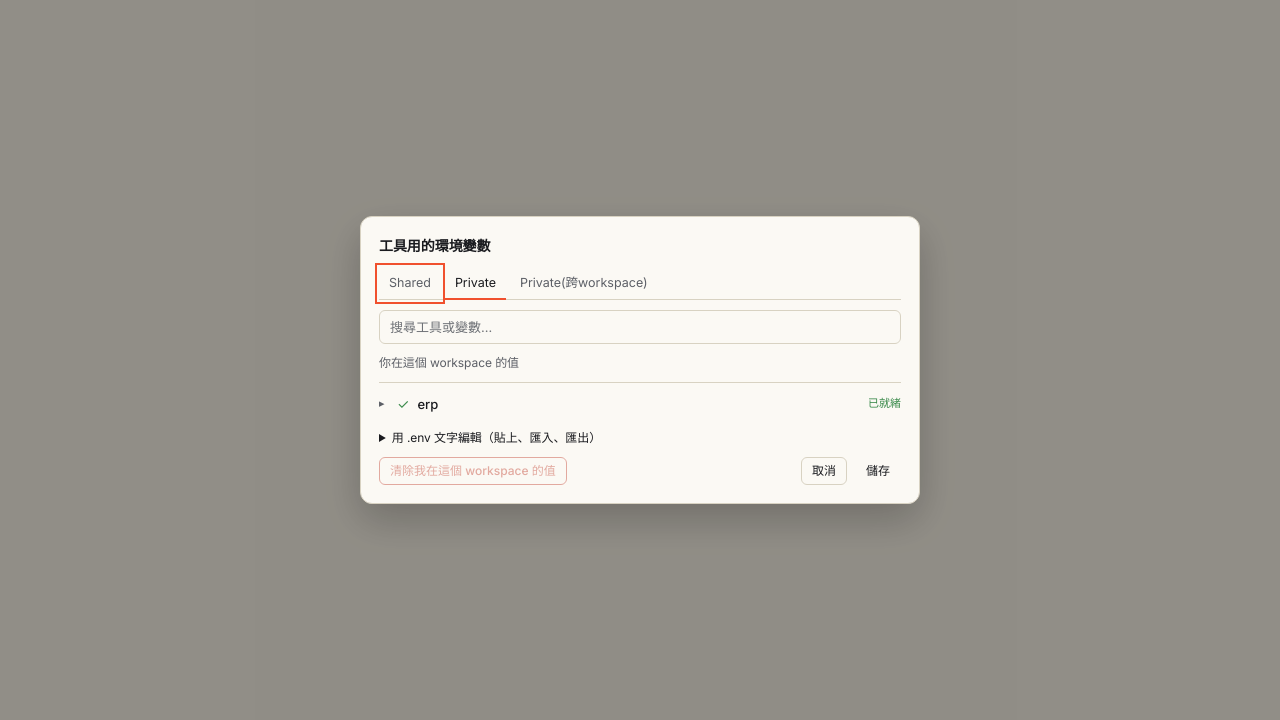
Test case: the copy › says what typing here would override, and nothing once this tab holds the value
Click the button with test id "env-section-head-erp": click(884, 403) [379, 389, 901, 419]
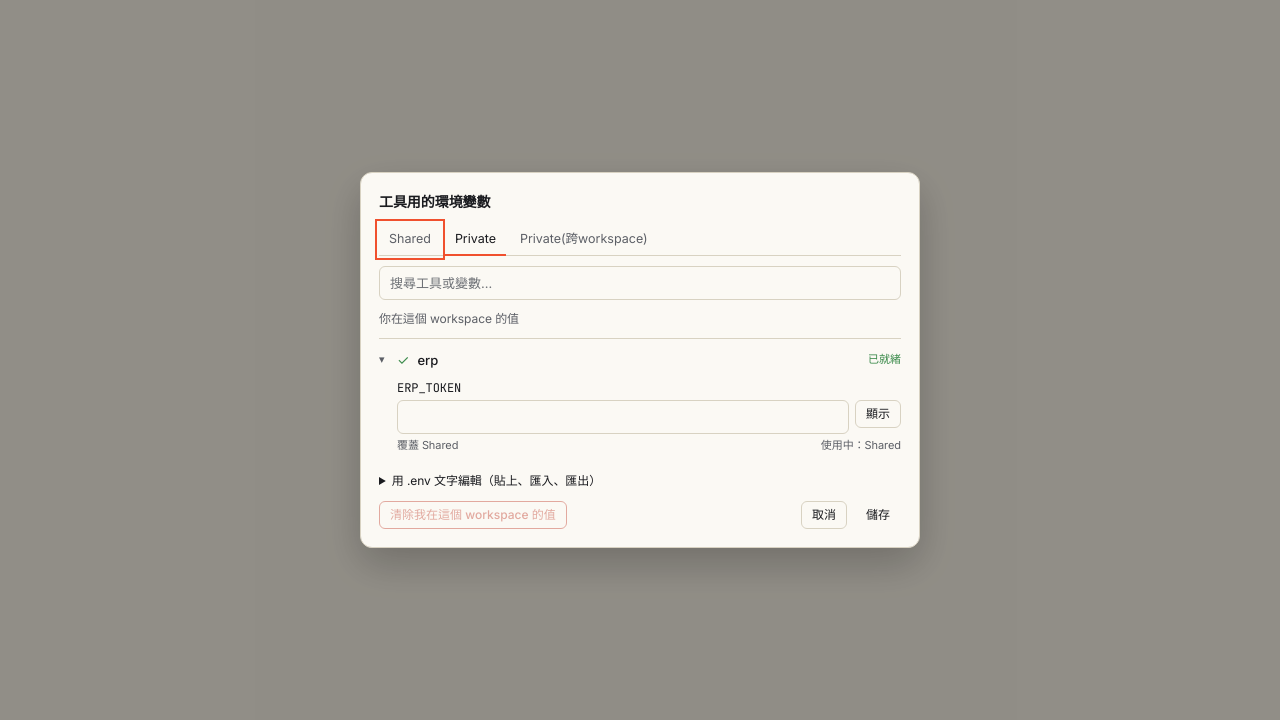
Expected: the element with test id "env-mine-row-ERP_TOKEN" shows "覆蓋 Shared", [397, 438, 458, 452]
In the field with test id "env-mine-ERP_TOKEN": (623, 417) [397, 400, 849, 434], type "mine"
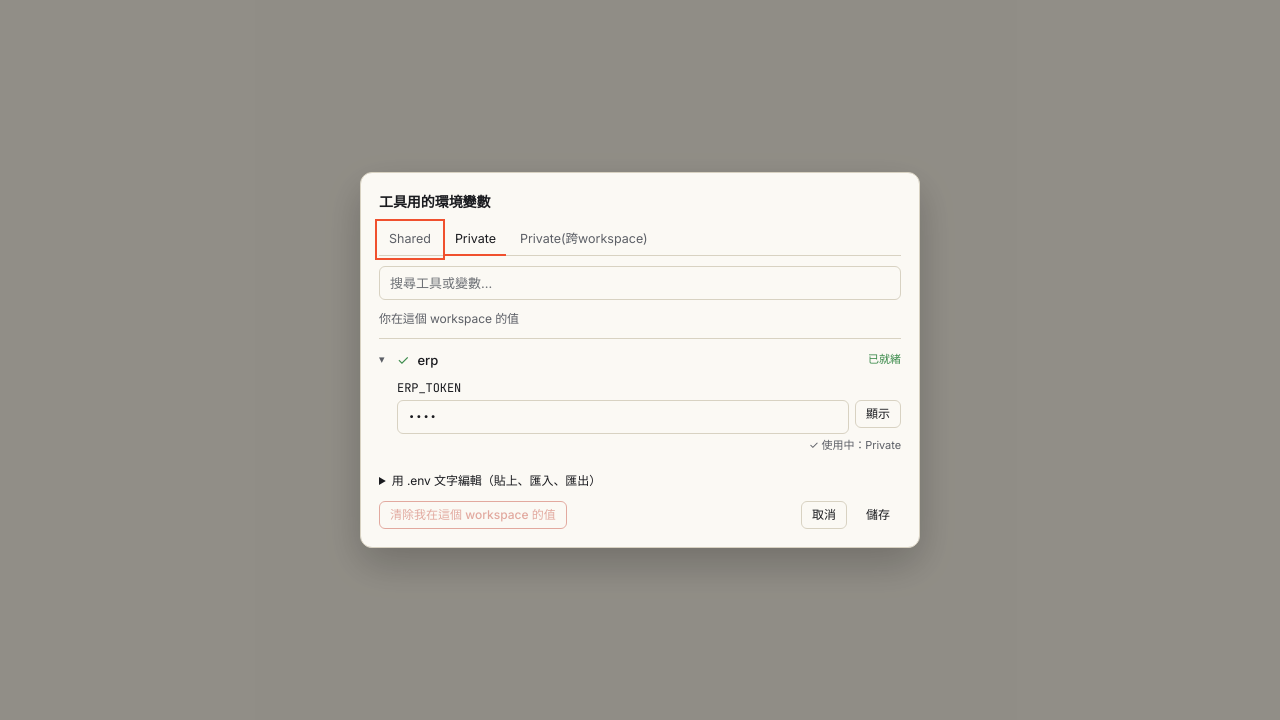
Expected: the element with test id "env-mine-row-ERP_TOKEN" no longer shows "覆蓋", [397, 379, 901, 454]
Expected: the element with test id "env-mine-row-ERP_TOKEN" shows "使用中：Private", [822, 438, 901, 452]
